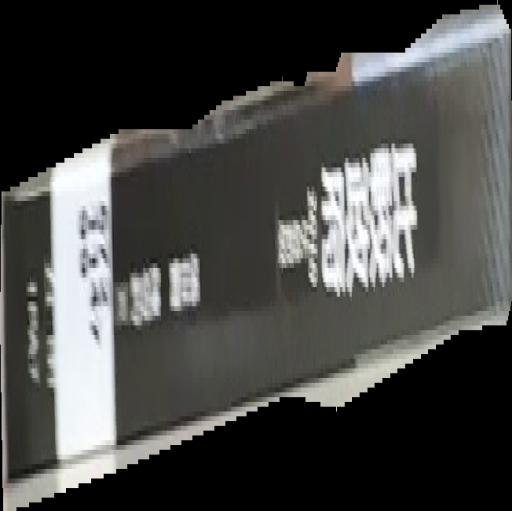flat: (1, 1, 512, 511)
